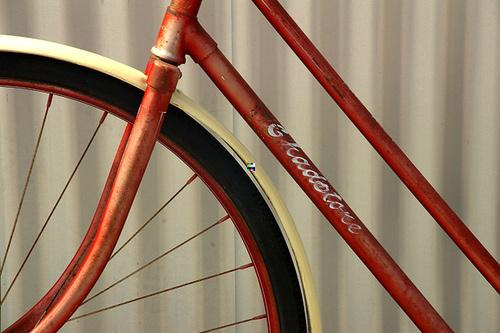car: (3, 4, 499, 331)
